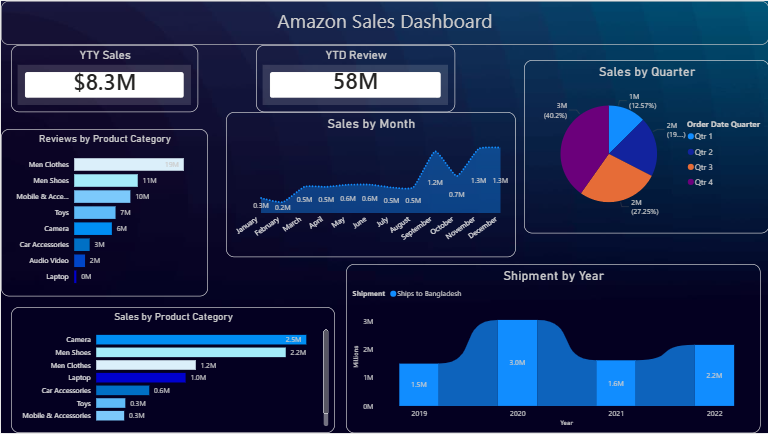

Layout of this report page (visuals, bound fields, positions):
{"tool":"powerbi","page":{"name":"Page 1","canvas":[1280,720],"ordinal":0},"visuals":[{"type":"clusteredBarChart","title":"Reviews by Product Category","fields":{"Category":["Amazon_Data.Product Category"],"Y":["Sum(Amazon_Data.Number of  reviews)"]},"box":[0,213.3,344.6,279],"z":0},{"type":"stackedAreaChart","title":"Sales by Month ","fields":{"Y":["Sum(Amazon_Data.Price(Dollar))"],"Category":["Amazon_Data.Order Date.Variation.Date Hierarchy.Month"]},"box":[374.8,185,482.9,242.3],"z":1000},{"type":"pieChart","title":"Sales by Quarter","fields":{"Category":["Amazon_Data.Order Date.Variation.Date Hierarchy.Quarter"],"Y":["Sum(Amazon_Data.Price(Dollar))"]},"box":[871.4,98.5,408.6,288.8],"z":2000},{"type":"clusteredBarChart","title":"Sales by Product Category","fields":{"Y":["Sum(Amazon_Data.Price(Dollar))"],"Category":["Amazon_Data.Product Category"]},"box":[16.4,510.7,540.2,209.5],"z":3000},{"type":"ribbonChart","title":"Shipment by Year","fields":{"Series":["Amazon_Data.Shipment"],"Y":["Sum(Amazon_Data.Price(Dollar))"],"Category":["Amazon_Data.Order Date.Variation.Date Hierarchy.Year"]},"box":[574.5,438.7,690.7,281.5],"z":4000},{"type":"cardVisual","title":"YTY Sales","fields":{"Data":["Sum(Amazon_Data.Price(Dollar))"]},"box":[16.4,73.8,311.8,111.6],"z":6000},{"type":"cardVisual","title":"YTD Review","fields":{"Data":["Sum(Amazon_Data.Number of  reviews)"]},"box":[425,73.3,331.7,111.7],"z":7000},{"type":"textbox","box":[0,0,1280,73.3],"z":7001}]}

Visuals, with their boxes in screenshot pixels (x1, y1, x2, y2), scaled from the page's 1280x720 canvas onto the 768x434 screenshot:
"Reviews by Product Category" clusteredBarChart: BBox(0, 129, 207, 297)
"Sales by Month " stackedAreaChart: BBox(225, 112, 515, 258)
"Sales by Quarter" pieChart: BBox(523, 59, 767, 233)
"Sales by Product Category" clusteredBarChart: BBox(10, 308, 334, 433)
"Shipment by Year" ribbonChart: BBox(345, 264, 759, 433)
"YTY Sales" cardVisual: BBox(10, 44, 197, 112)
"YTD Review" cardVisual: BBox(255, 44, 454, 112)
textbox: BBox(0, 0, 767, 44)
